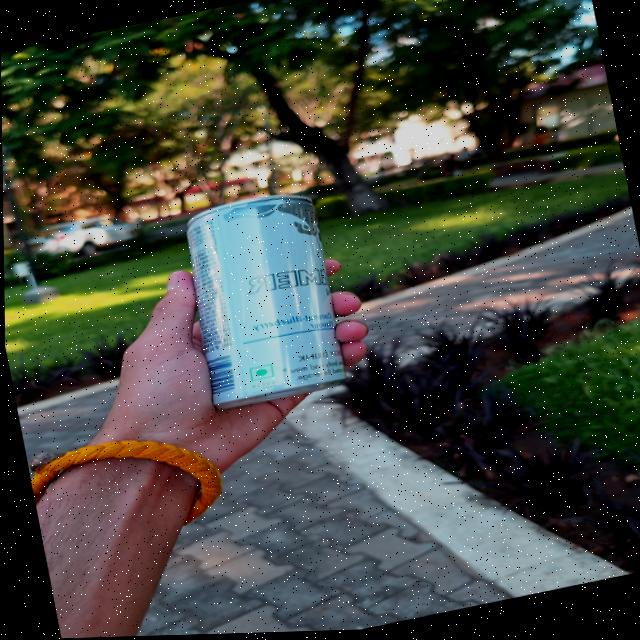Redbull Summer Edition: (148, 179, 366, 427)
